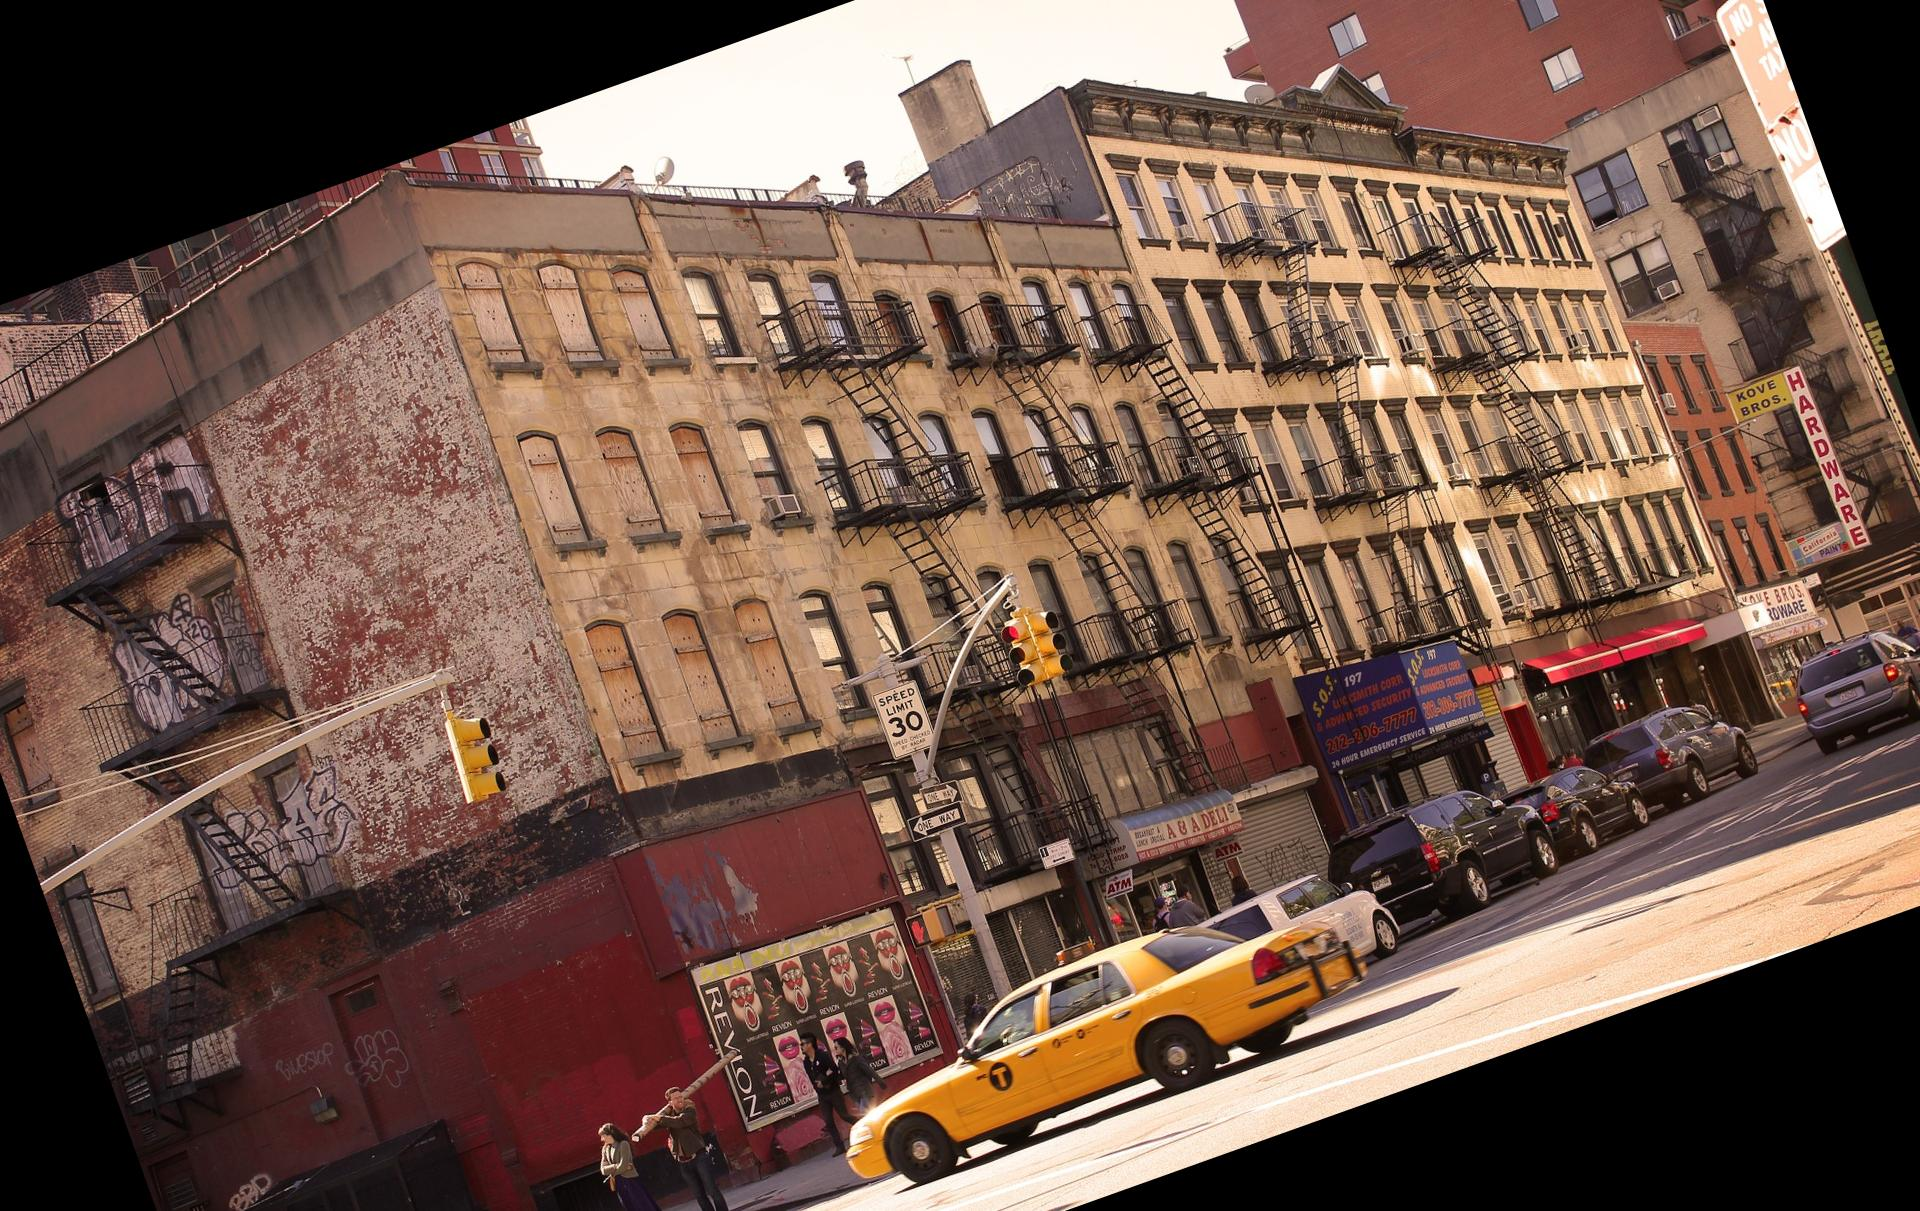taxi: (826, 919, 1358, 1189)
